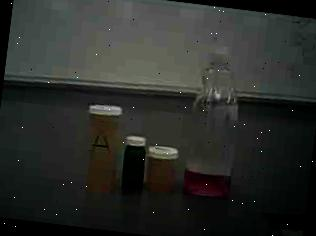Bottle A: (73, 96, 128, 200)
Bottle B: (144, 138, 184, 202)
Bottle C: (116, 126, 153, 194)
hazard: (175, 27, 264, 206)
